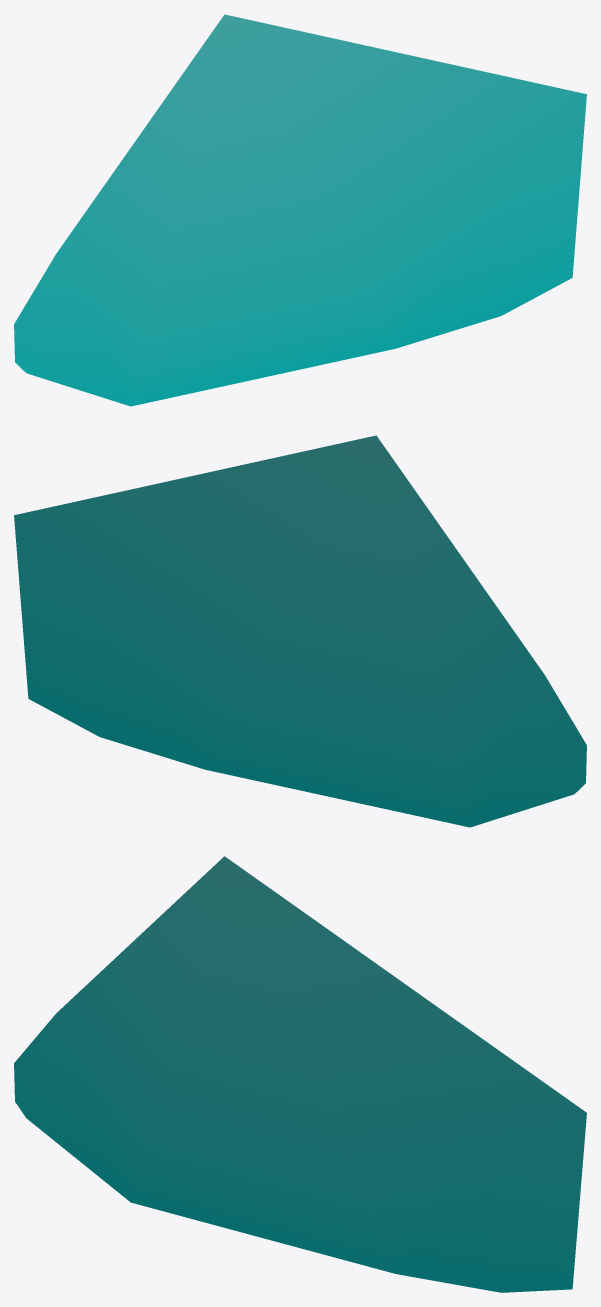
File: Wild_Grass_vdilbaiia_Mid_vdilbaiia_VarH_LOD3.fbx
3 renders of one model, top to bottom at view 1: azimuth 30°, elevation 25°; view 2: azimuth 150°, elevation 25°; view 3: azimuth 330°, elevation 25°, orthographic.
Parts seen in each view (by area): view 1: _6ceg_VarH_LOD4; view 2: _6ceg_VarH_LOD4; view 3: _6ceg_VarH_LOD4.
Boxes of the visible parts, x1,y1,x2,y2 form: _6ceg_VarH_LOD4: (14,14,586,406); _6ceg_VarH_LOD4: (14,435,586,827); _6ceg_VarH_LOD4: (14,856,586,1292).
Size of the model in its own units: 150 by 94.3 by 0.
